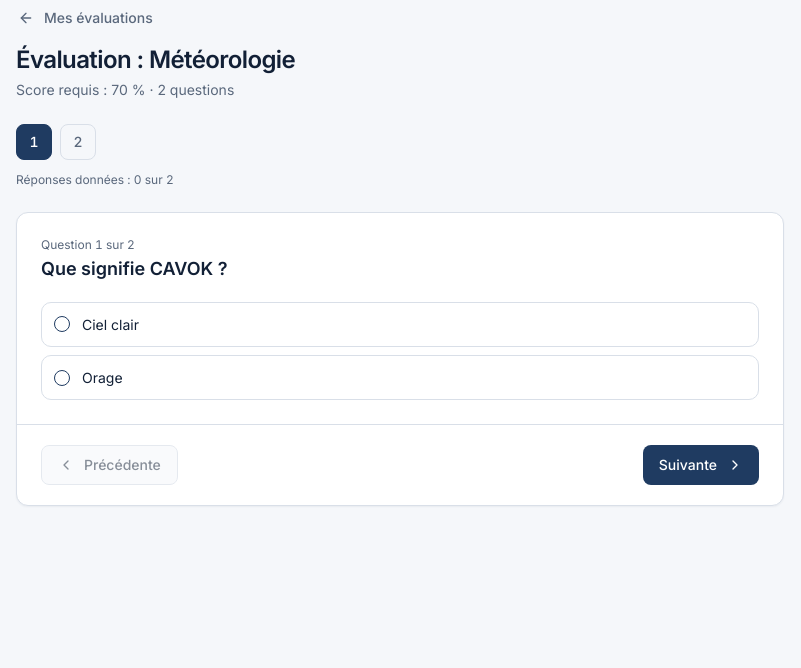
Test: Passer une évaluation › refuse de terminer tant qu'une question est sans réponse et y conduit
The width and height of the screenshot is (801, 668).
Expected: the heading "Évaluation : Météorologie" is shown, [16,44,295,76]
Click the button "Suivante".
click(701, 465)  # box [643,445,759,485]
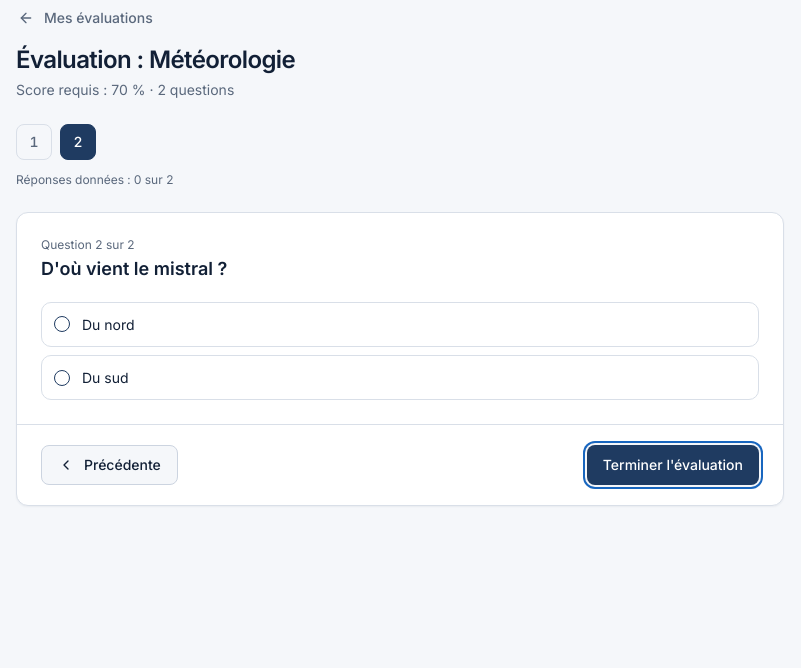
Click the radio button named "Du nord" next to "Du nord".
click(62, 324)  # box [54,316,70,332]
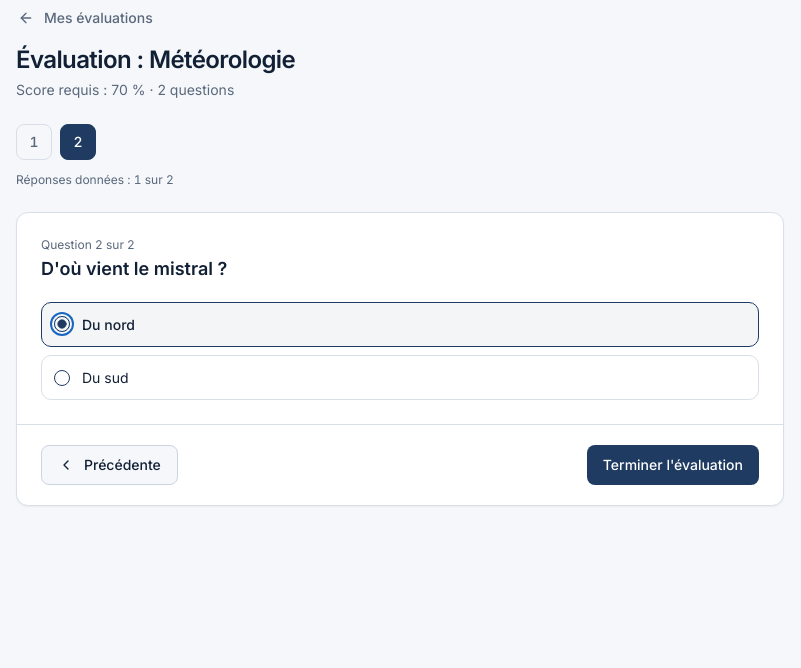
Click the button "Terminer l'évaluation".
click(673, 465)  # box [587,445,759,485]
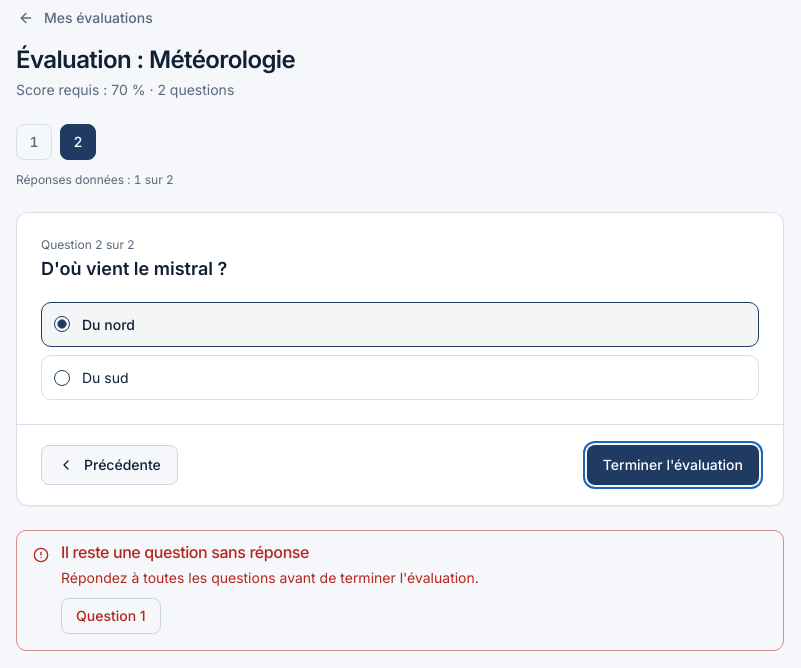
Result: the text "Il reste une question sans réponse" is shown at [61,542,309,562]
Click the button "Question 1".
click(111, 616)  # box [61,598,161,634]
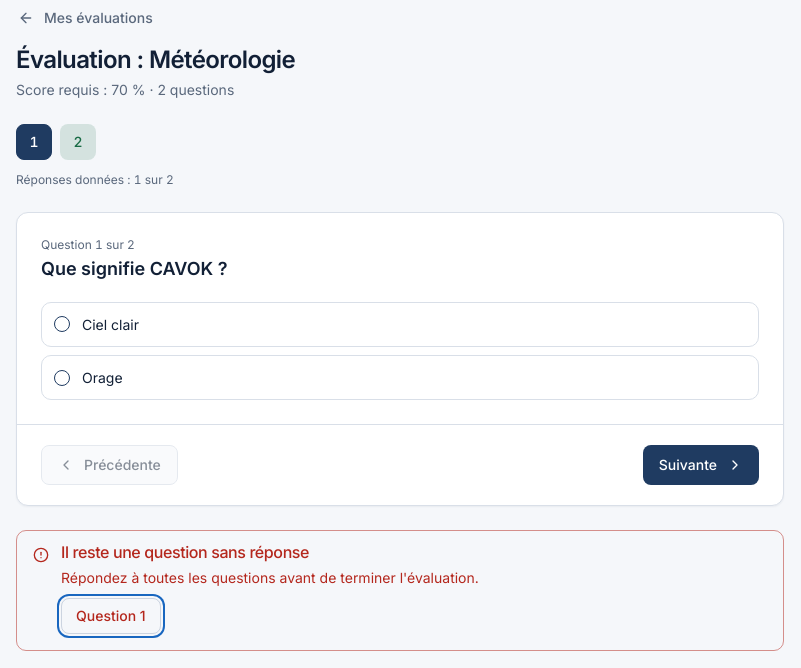
Result: the heading "Que signifie CAVOK ?" is shown at [41,257,228,282]
